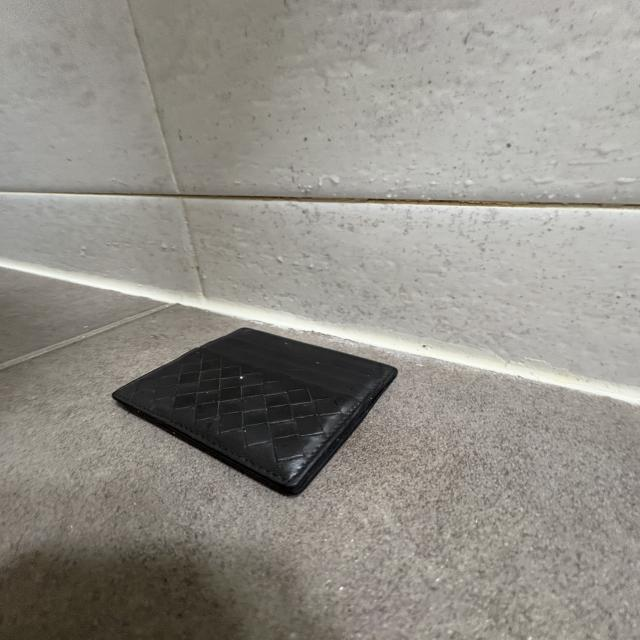wallet: (112, 327, 400, 501)
